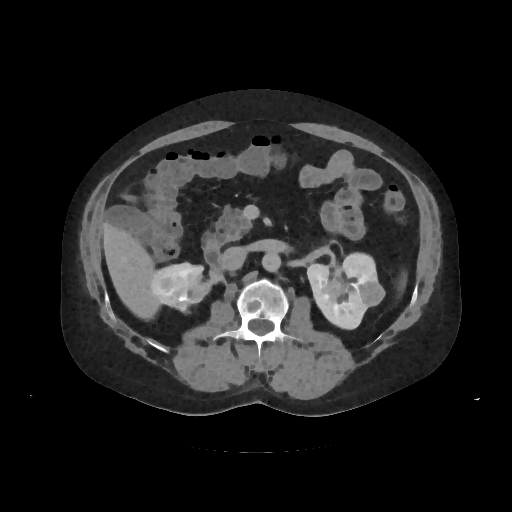Lesion: (356, 280, 391, 312)
